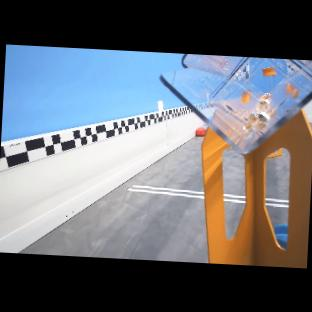V5_RED: (195, 126, 206, 136)
